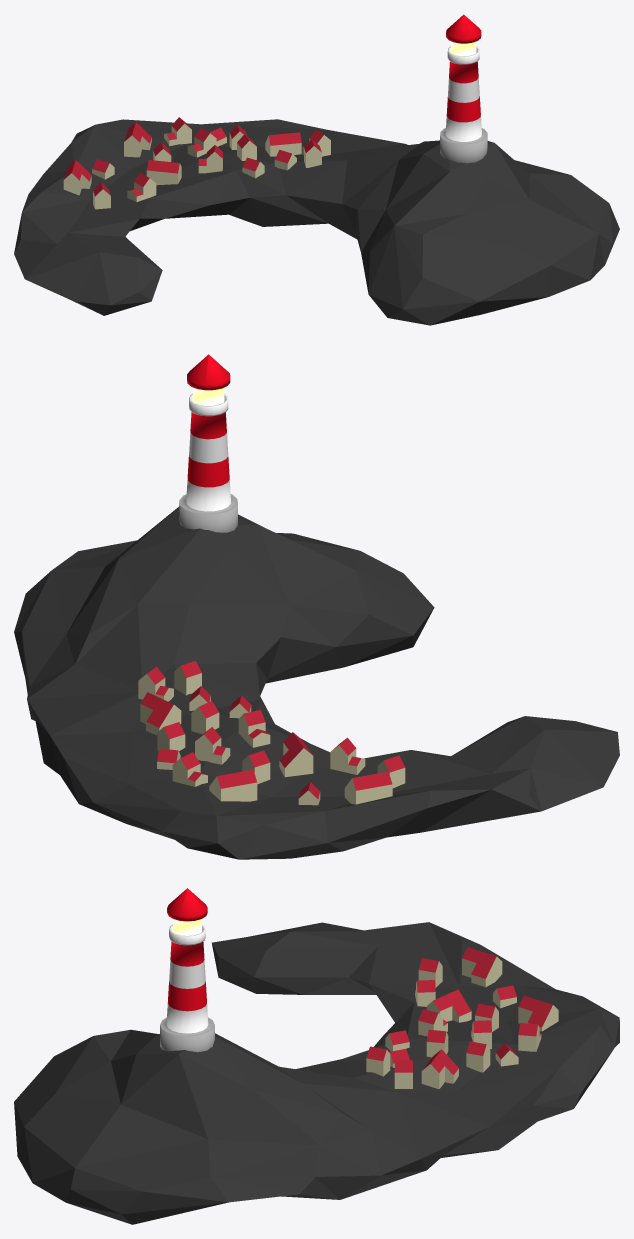
File: lighthouse scene 4.glb
3 renders of one model, top to bottom at view 1: azimuth 30°, elevation 25°; view 2: azimuth 150°, elevation 25°; view 3: azimuth 270°, elevation 25°, orthographic. The views are drawn at different scales.
Parts seen in each view (by area): view 1: Base Rocks, lighthouse, house 3.002, house 3, house 3.001, house 3.003, house 4.004, house 4.001, house 4.003, house 4.002; view 2: Base Rocks, lighthouse, house 3.001, house 3.003, house 3, house 3.002, house 4.002, house 4.003, house 4.004, house 4.001, house 4, house 1 (+2 smaller); view 3: Base Rocks, lighthouse, house 3.003, house 3.001, house 3, house 3.002, house 1.001, house 1, house 4.001, house 4.002, house 4, house 1.004 (+3 smaller).
Part boxes in pixels (<box>): Base Rocks: <box>14,119,619,325</box>; lighthouse: <box>440,14,487,163</box>; house 3.002: <box>146,160,181,185</box>; house 3: <box>265,132,301,156</box>; house 3.001: <box>124,122,151,157</box>; house 3.003: <box>63,159,91,195</box>; house 4.004: <box>127,172,156,201</box>; house 4.001: <box>164,117,191,146</box>; house 4.003: <box>187,128,216,157</box>; house 4.002: <box>198,145,222,173</box>; Base Rocks: <box>14,506,619,859</box>; lighthouse: <box>179,354,237,532</box>; house 3.001: <box>209,769,257,801</box>; house 3.003: <box>344,771,392,804</box>; house 3: <box>140,692,181,735</box>; house 3.002: <box>279,732,313,777</box>; house 4.002: <box>238,709,270,747</box>; house 4.003: <box>195,727,230,764</box>; house 4.004: <box>330,737,365,774</box>; house 4.001: <box>172,752,207,786</box>; house 4: <box>138,666,173,701</box>; house 1: <box>174,661,201,695</box>; Base Rocks: <box>14,922,619,1224</box>; lighthouse: <box>160,888,214,1052</box>; house 3.003: <box>462,947,502,987</box>; house 3.001: <box>518,995,558,1031</box>; house 3: <box>421,1049,458,1089</box>; house 3.002: <box>426,989,471,1022</box>; house 1.001: <box>466,1041,490,1072</box>; house 1: <box>366,1046,390,1076</box>; house 4.001: <box>518,1023,541,1051</box>; house 4.002: <box>418,1009,447,1036</box>; house 4: <box>394,1060,412,1088</box>; house 1.004: <box>418,958,442,987</box>.
Size of what is drawn, in the model's own units: 19.58 by 9.29 by 17.69.
